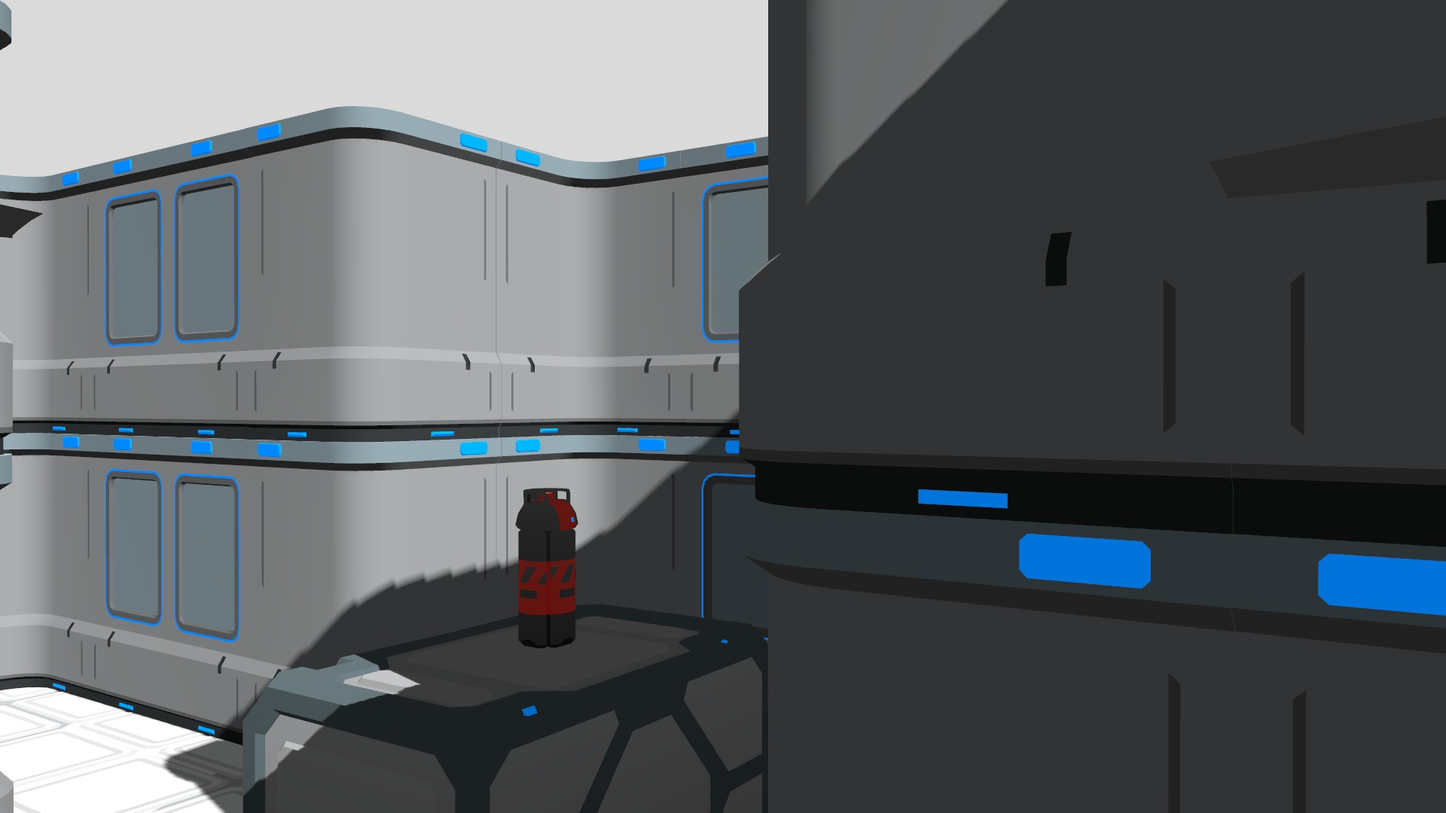red_barrel: (512, 485, 582, 652)
